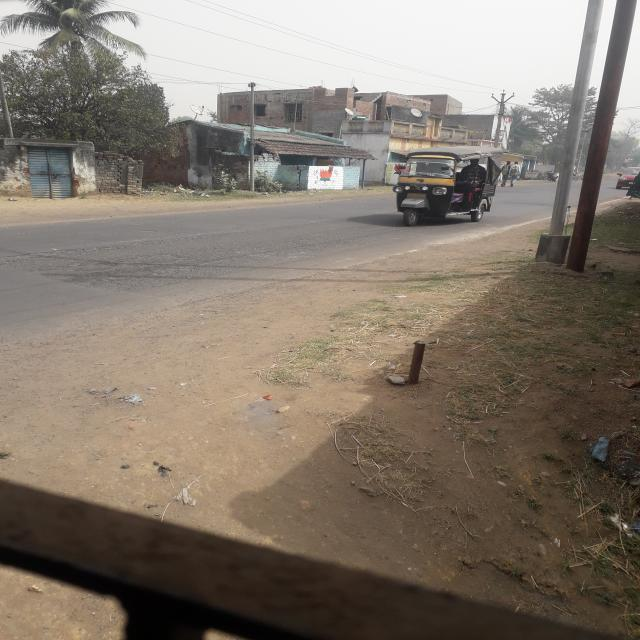auto_front: (388, 140, 514, 230)
